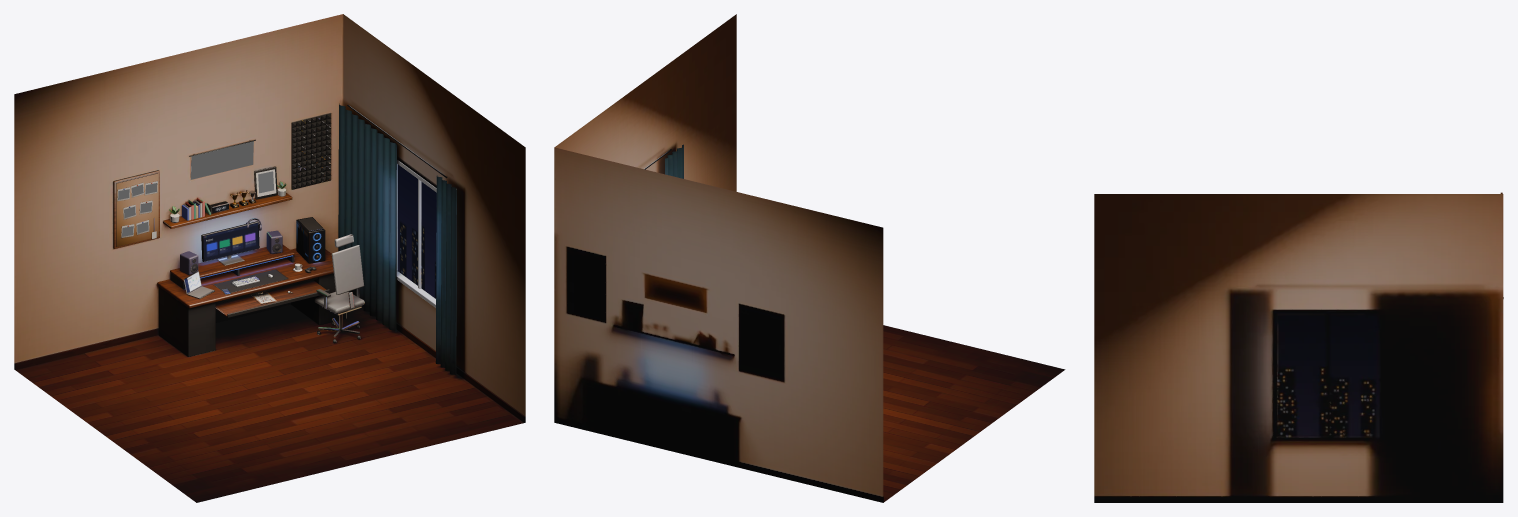
File: room.glb
The picture shows the model from 3 angles, left to right: view 1: azimuth 30°, elevation 25°; view 2: azimuth 150°, elevation 25°; view 3: azimuth 270°, elevation 25°; orthographic projection. The views are drawn at different scales.
Parts seen in each view (by area): view 1: room_static, mesh_corkboard, screen_banner_photo, screen_monitor, mesh_monitor, mesh_pc; view 2: room_static; view 3: room_static.
Boxes of the visible parts, bbox=[...] form: room_static: bbox=[14, 14, 525, 502]; mesh_corkboard: bbox=[113, 170, 159, 248]; screen_banner_photo: bbox=[191, 141, 253, 179]; screen_monitor: bbox=[203, 223, 258, 261]; mesh_monitor: bbox=[201, 218, 288, 292]; mesh_pc: bbox=[296, 217, 325, 272]; room_static: bbox=[554, 14, 1065, 502]; room_static: bbox=[1094, 194, 1503, 502].
Bounding box in the file's own units: 5 × 4 × 4.81.
10 materials, 7 textured.
